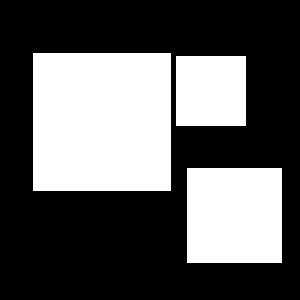circle: (33, 53, 171, 191), (187, 168, 282, 263), (176, 56, 246, 126)
